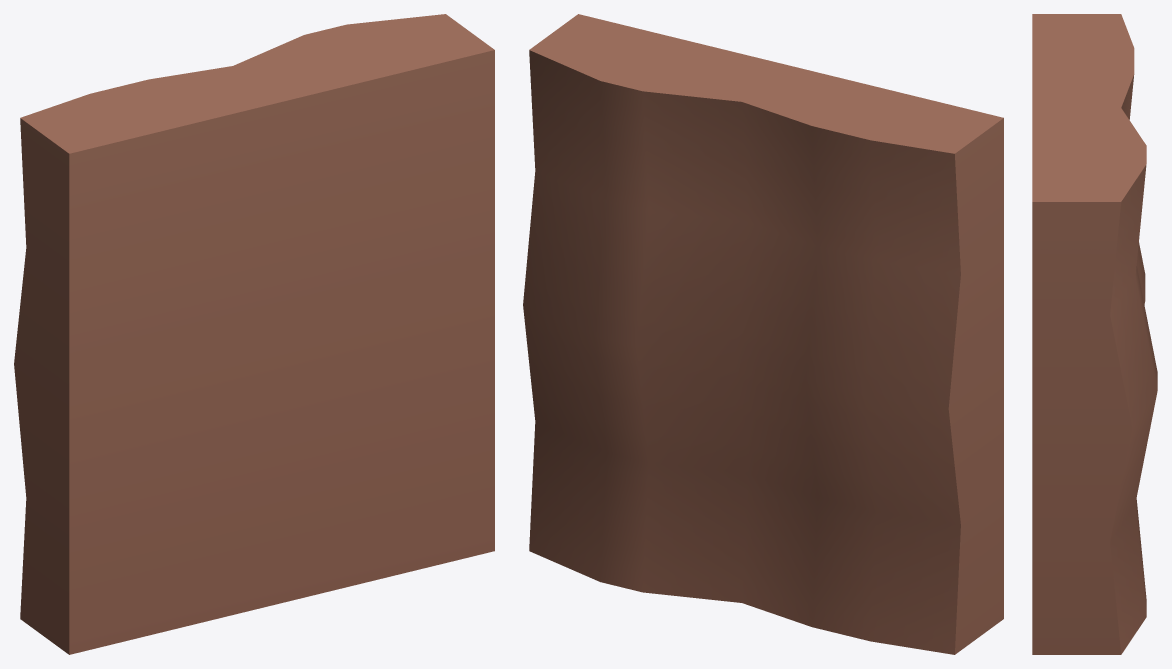
File: template-wall-top.obj
3 views of the same model, side by side, from view 1: azimuth 30°, elevation 25°; view 2: azimuth 150°, elevation 25°; view 3: azimuth 270°, elevation 25° (orthographic). The views are drawn at different scales.
Visible parts, largest first — view 1: template-wall-top; view 2: template-wall-top; view 3: template-wall-top.
Part boxes in pixels (box(x1,y1,x2,y2)): template-wall-top: box(14, 14, 494, 654); template-wall-top: box(523, 14, 1003, 654); template-wall-top: box(1032, 14, 1157, 654).
Bounding box in the file's own units: 4 × 4.5 × 1.13.
1 material, 1 textured.
